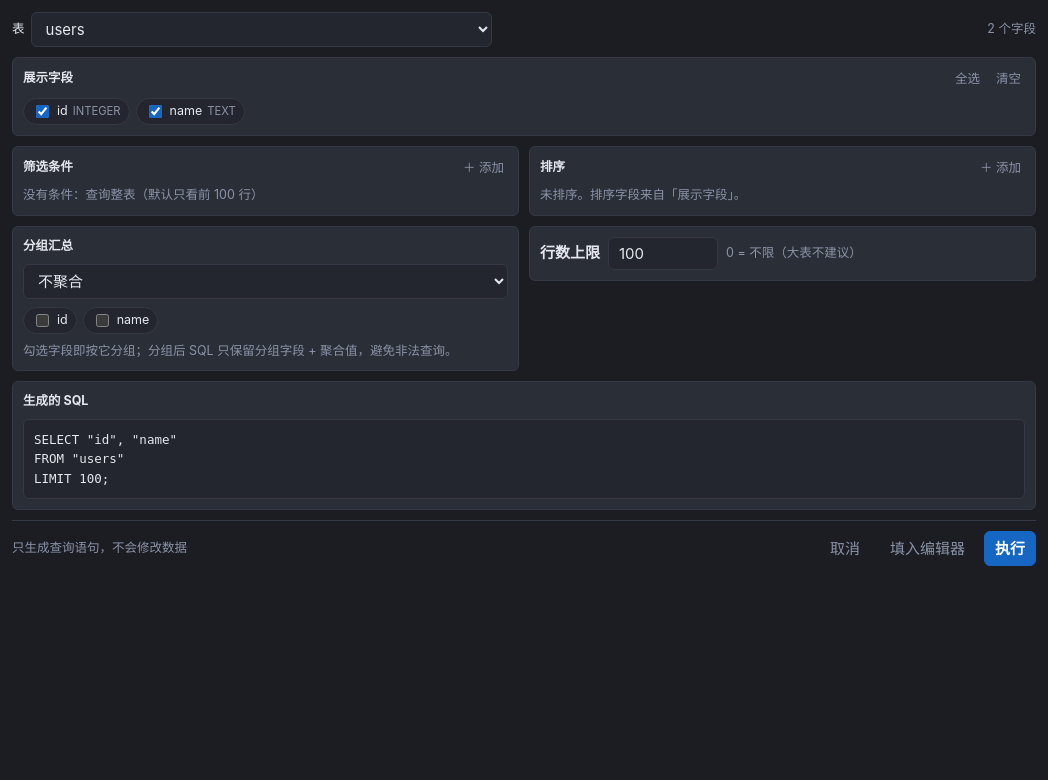
Test: QueryBuilder › 取消勾选字段后 SQL 只保留选中字段
What coordinates should you click on to do the following:
click the checkbox labelled "name TEXT"
I would click on:
 (155, 111)
Its box is [149, 104, 162, 118].
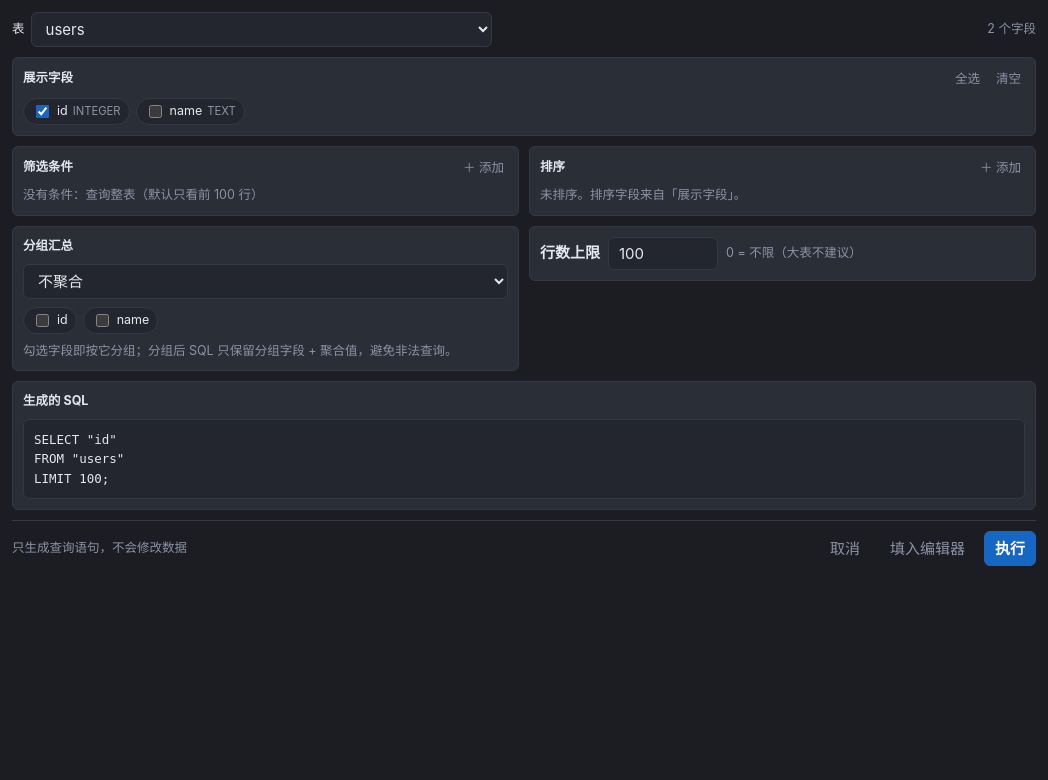
Expected: the text "SELECT \"id\" FROM \"users\" LIMIT 100;" shows "SELECT \"id\"", [34, 432, 124, 486]
Expected: the text "\"name\"" is gone
